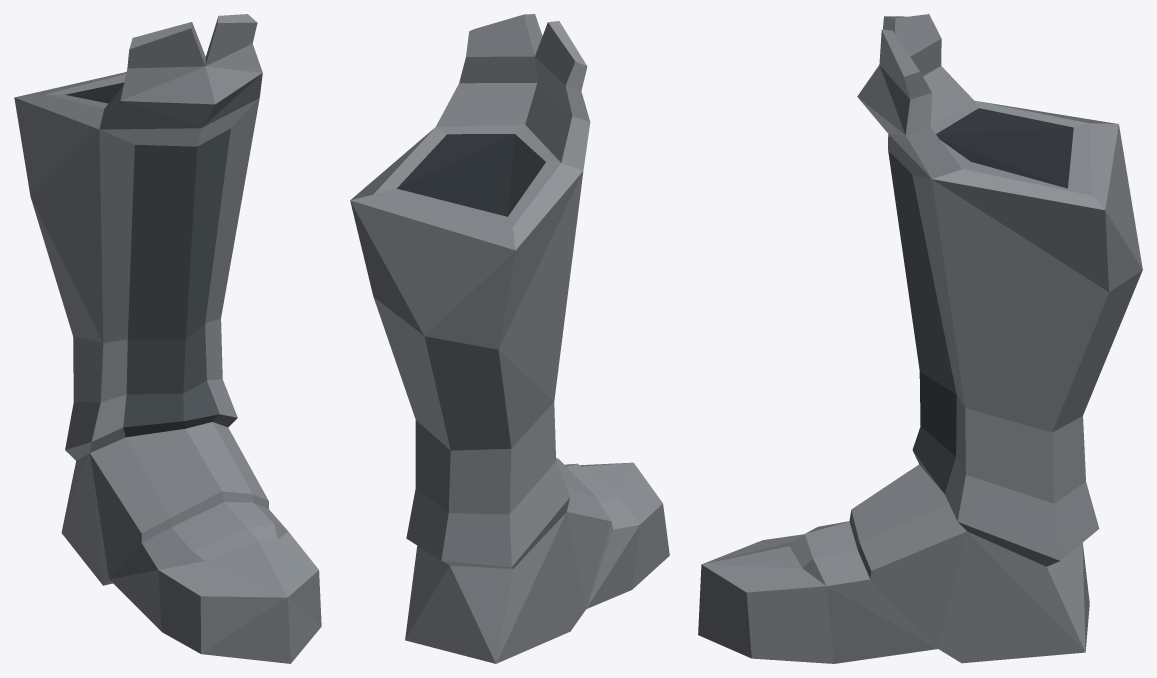
File: Chr_LegLeft_Male_14_Static.fbx
3 views of the same model, side by side, from view 1: azimuth 30°, elevation 25°; view 2: azimuth 150°, elevation 25°; view 3: azimuth 270°, elevation 25° (orthographic). The views are drawn at different scales.
Visible parts, largest first — view 1: Chr_LegLeft_Male_14_Static; view 2: Chr_LegLeft_Male_14_Static; view 3: Chr_LegLeft_Male_14_Static.
Part boxes in pixels (x1,y1,x2,y2): Chr_LegLeft_Male_14_Static: [14, 14, 321, 663]; Chr_LegLeft_Male_14_Static: [350, 14, 669, 663]; Chr_LegLeft_Male_14_Static: [698, 14, 1142, 663].
Size of the model in its own units: 0.1561 by 0.4979 by 0.3265.
